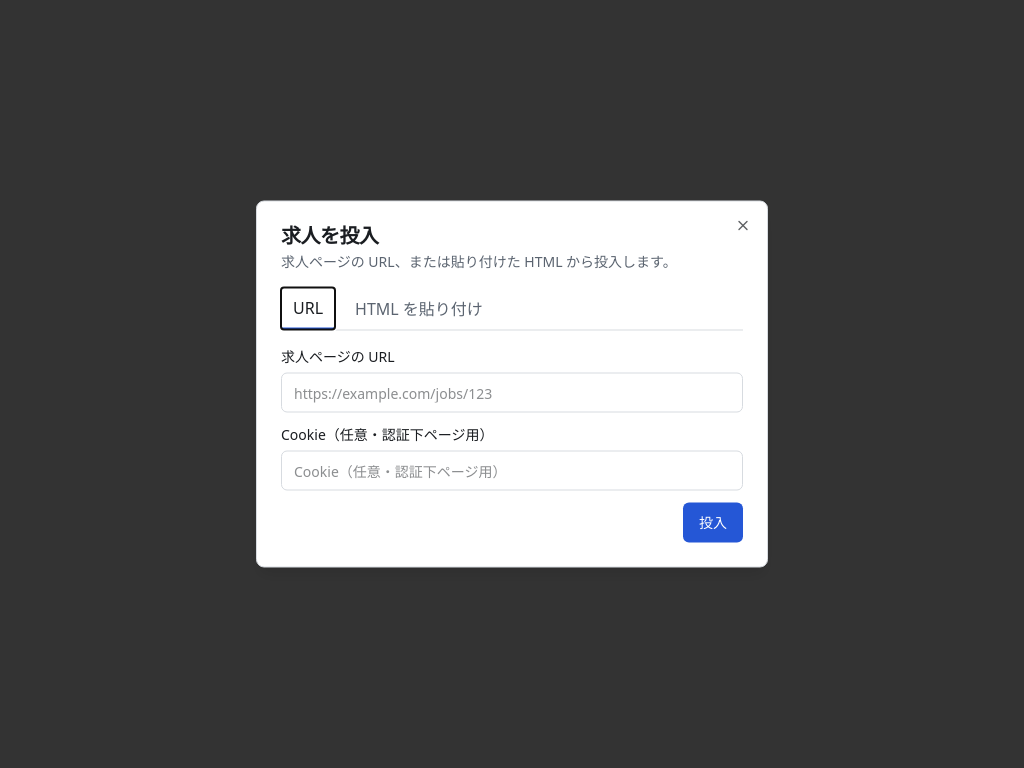
Test: AddJobModal（求人投入モーダル） › 不正 URL は送信前に弾き submit を呼ばない
Type "not-a-url" into the field with test id "add-job-url-input" at (512, 392), box x1=281 y1=372 x2=743 y2=412
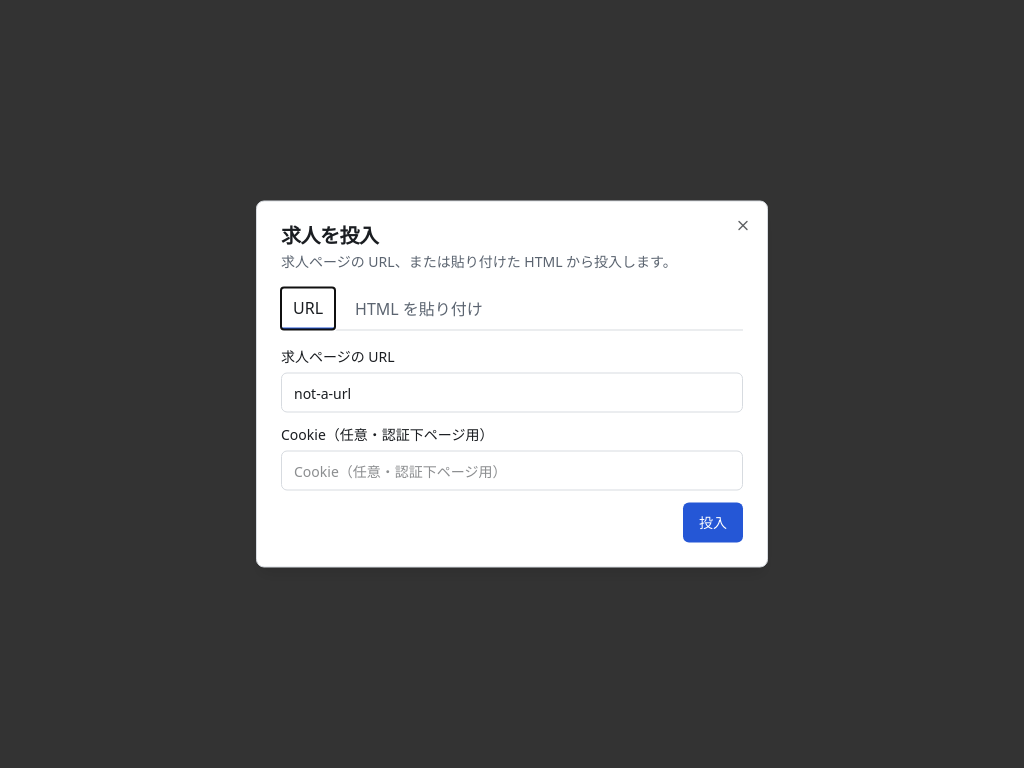
Click the button with test id "add-job-submit" at (713, 522), box x1=683 y1=502 x2=743 y2=542
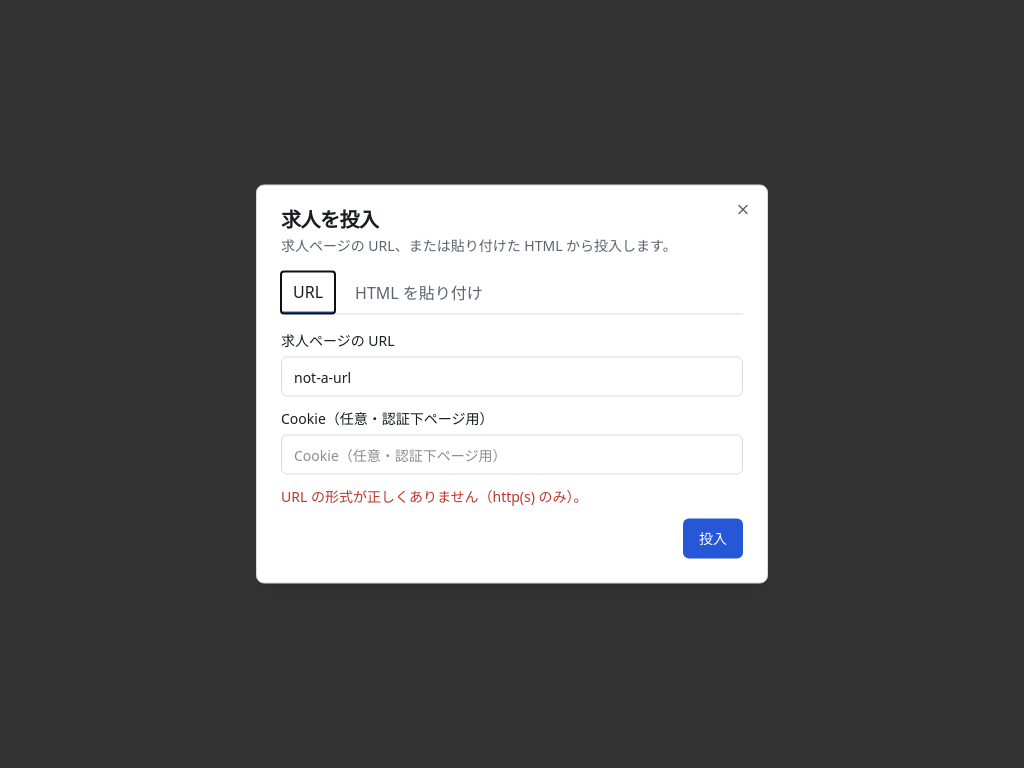
Expected: the message "URL の形式が正しくありません（http(s) のみ）。" is shown, x1=281 y1=486 x2=588 y2=506
